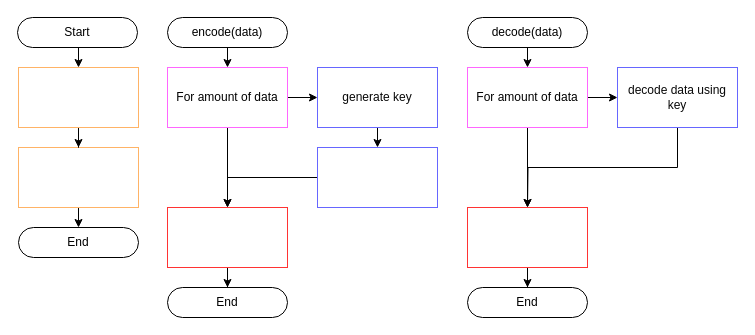
Image size: 755x335. Some labels were removed from this diagram. Each missing label, with the centre of its shape:
"Def decode(data,key)" belongs at (x=78, y=177).
"Def encode(data)" belongs at (x=78, y=97).
"encrypt data using the unique key" belongs at (x=377, y=177).
"Return data" belongs at (x=527, y=237).
"Return key and data" belongs at (x=227, y=237).
